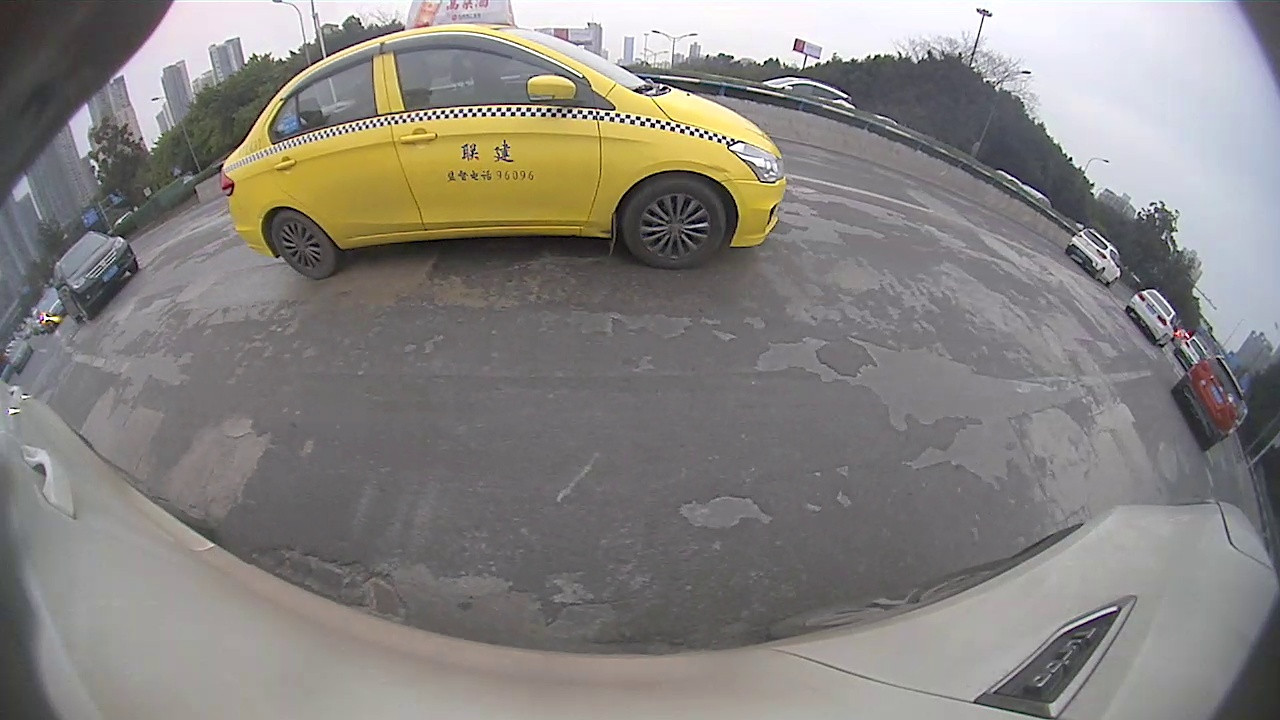car: (218, 1, 787, 282), (51, 232, 138, 322), (1173, 354, 1248, 453), (1065, 227, 1120, 286), (1125, 290, 1177, 346), (33, 293, 69, 330)
front: (621, 177, 728, 270)
rear: (272, 211, 339, 284)
